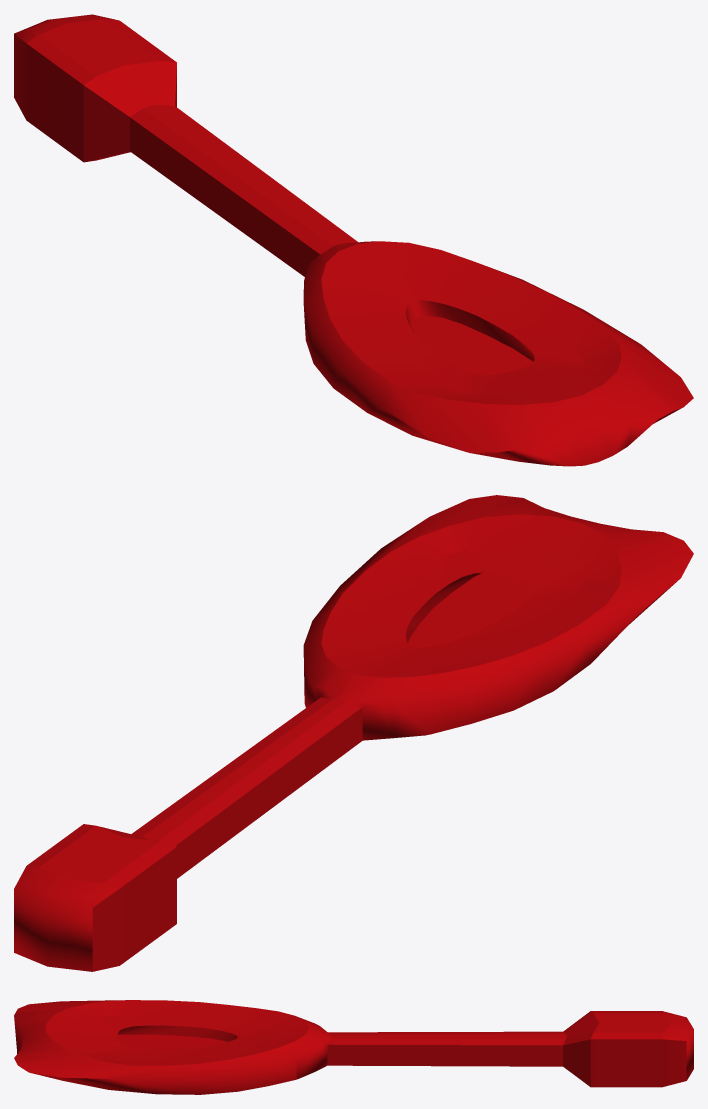
File: guitar.fbx
The picture shows the model from 3 angles, top to bottom: view 1: azimuth 30°, elevation 25°; view 2: azimuth 150°, elevation 25°; view 3: azimuth 270°, elevation 25°; orthographic projection. The views are drawn at different scales.
Visible parts, largest first — view 1: guitar; view 2: guitar; view 3: guitar.
Boxes of the visible parts, x1=… form: guitar: x1=14, y1=14, x2=693, y2=466; guitar: x1=14, y1=495, x2=693, y2=971; guitar: x1=14, y1=1000, x2=693, y2=1094.
Bounding box in the file's own units: 265 × 81.76 × 963.
